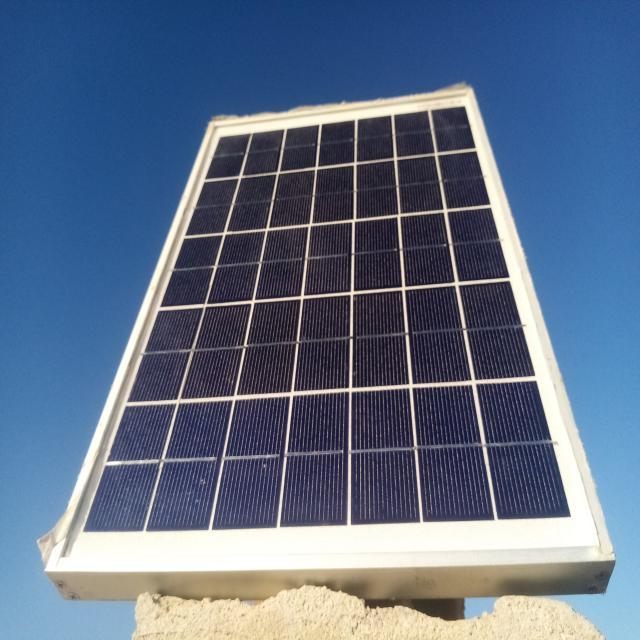no faulty: (51, 90, 614, 572)
